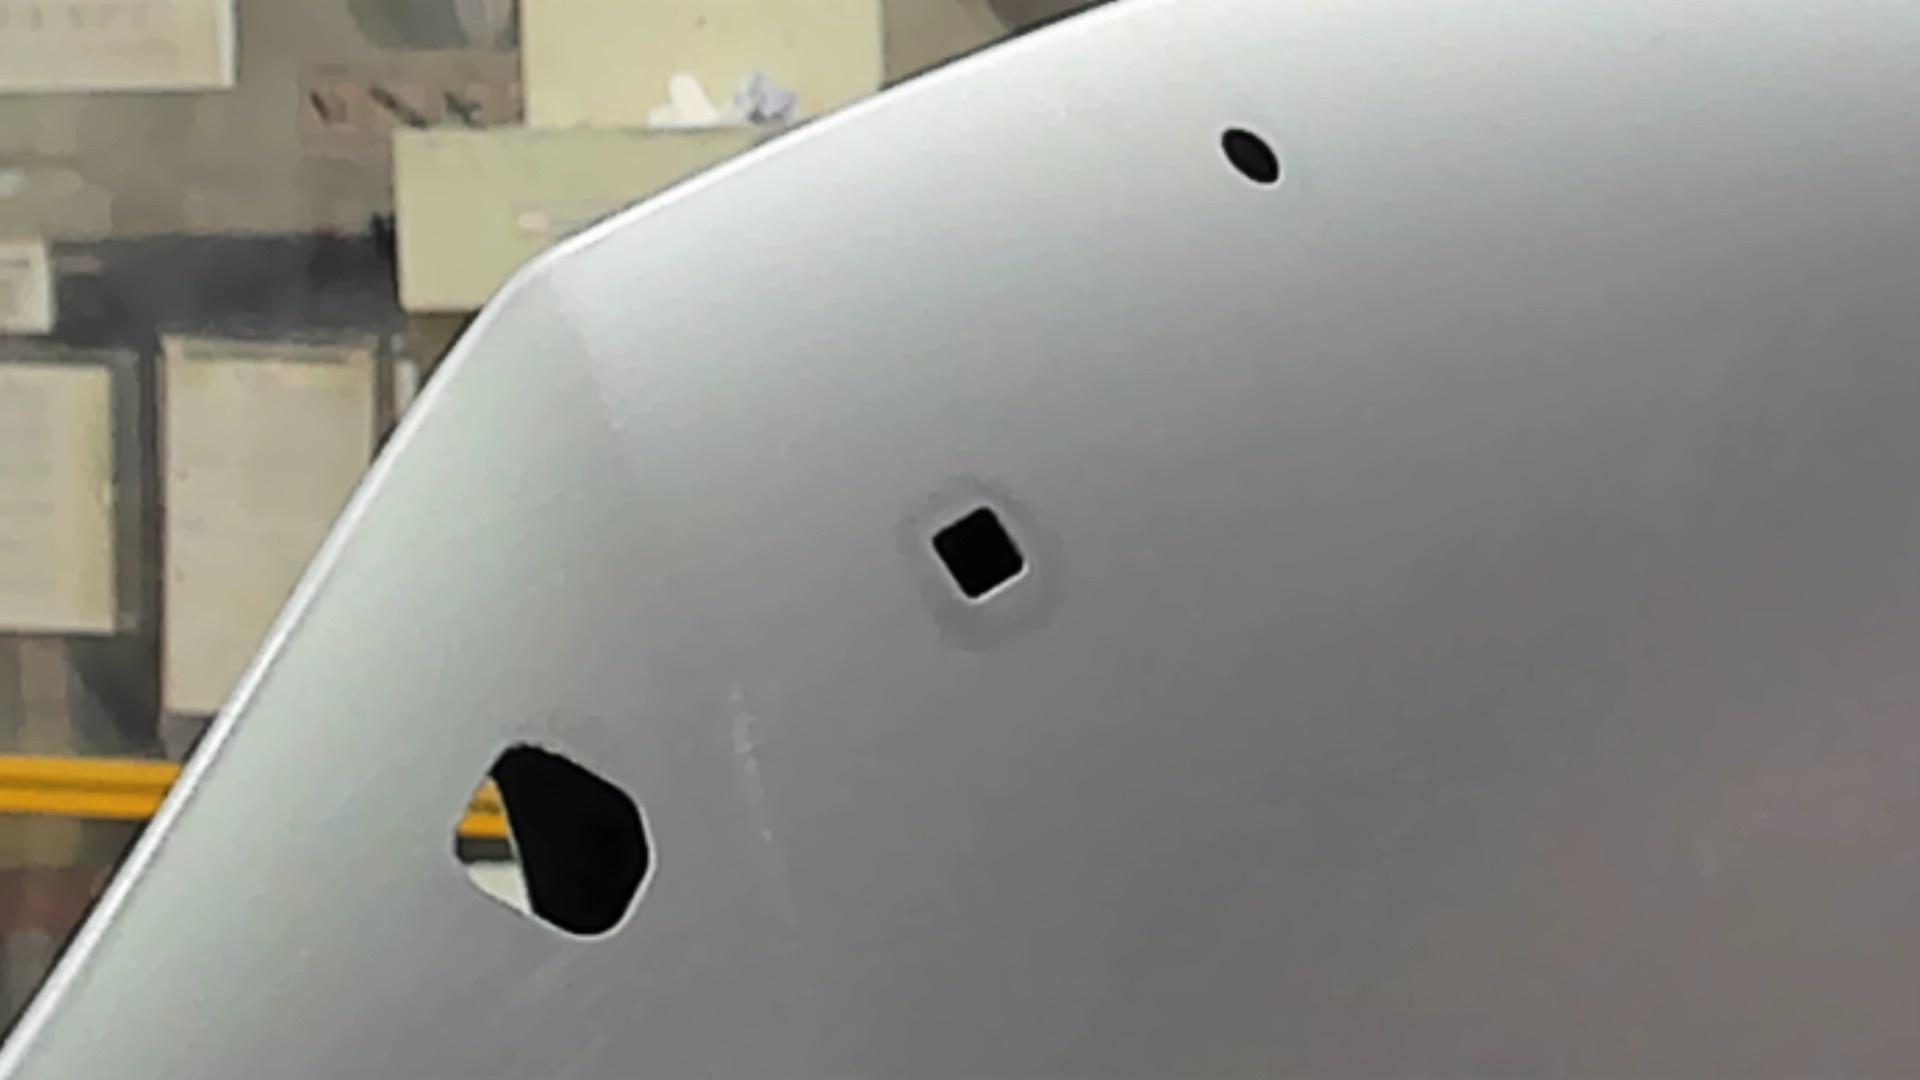chico: (1218, 124, 1283, 186)
grande: (450, 738, 659, 945)
mediano: (928, 502, 1031, 608)
